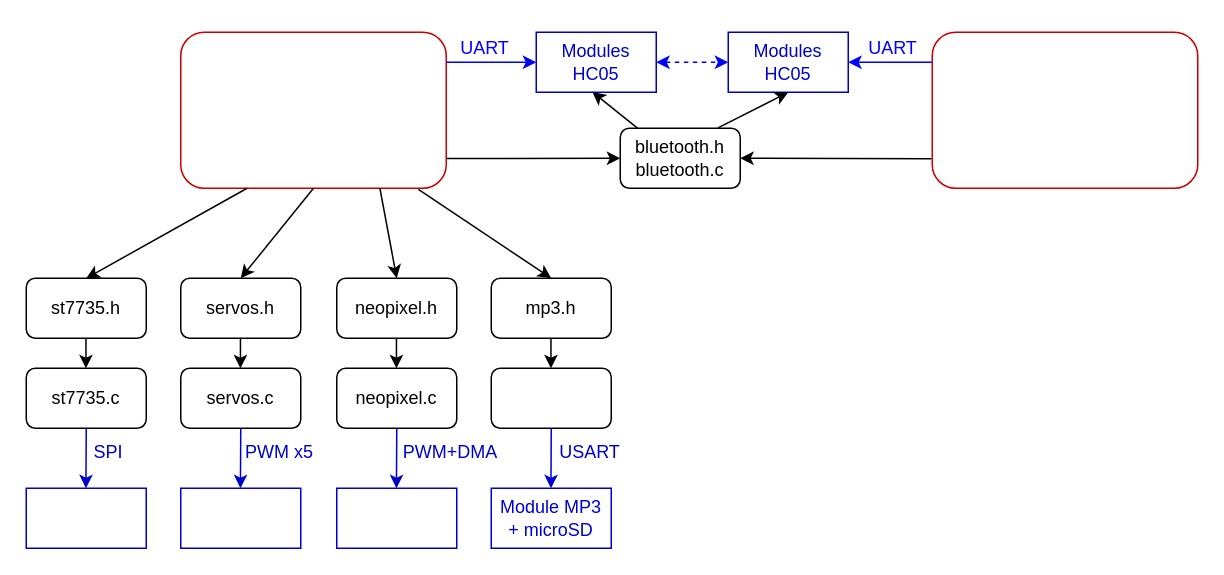
Image size: 1224x575. Some labels were removed from this diagram. The shapes that lost their labels are listed below. From the top down, each one's centre as x and y in pixels, then its label:
At point 312,109: "STM32G474RET6 Microcontroller".
At point 1064,109: "STM32G431KBT6 Microcontroller".
At point 550,397: "mp3.c".
At point 85,517: "LCD TFT screen".
At point 240,517: "Servos x5".
At point 396,517: "Neopixel LEDs".
